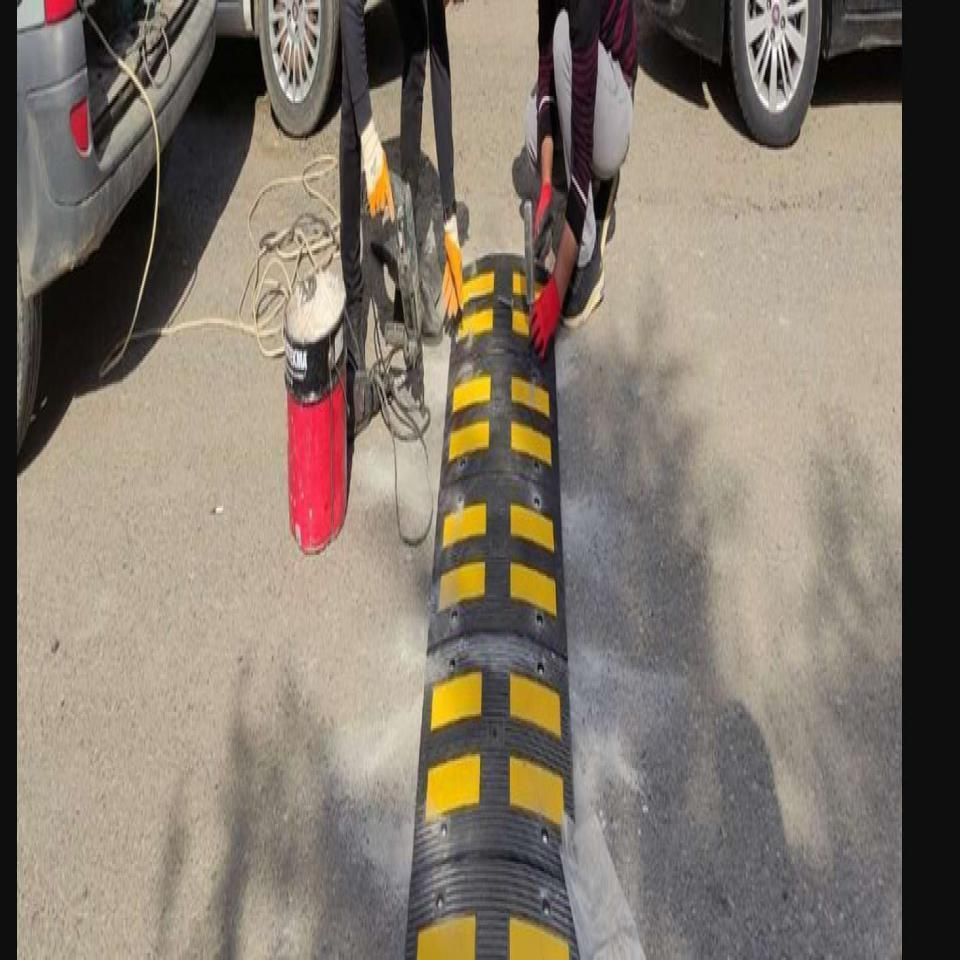Speed_Breaker: (407, 257, 582, 959), (414, 243, 585, 960)
